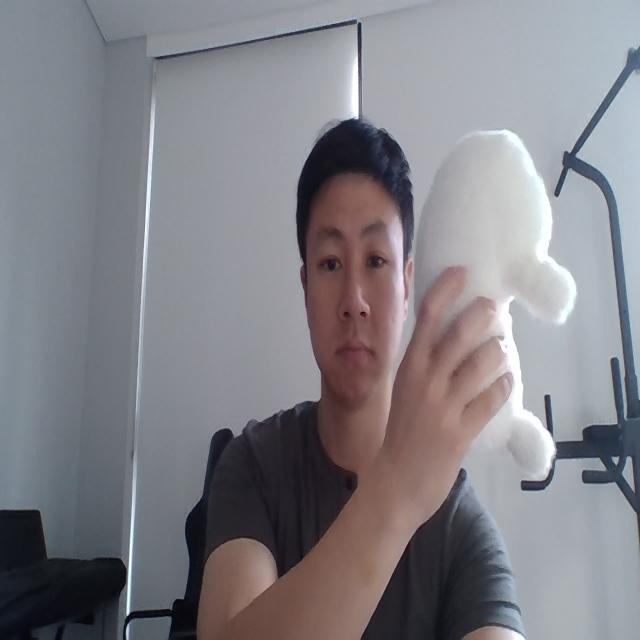seal_bb: (413, 128, 578, 477)
